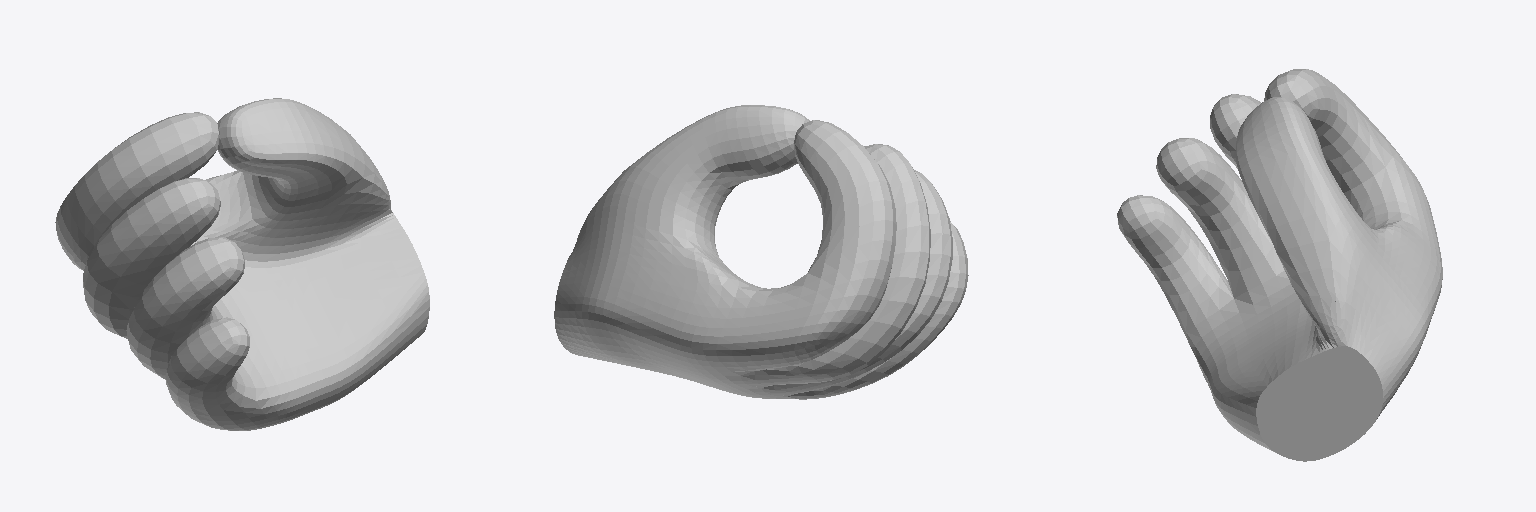
3 views of the same model, side by side, from view 1: azimuth 30°, elevation 25°; view 2: azimuth 150°, elevation 25°; view 3: azimuth 270°, elevation 25° (orthographic).
Visible parts, largest first — view 1: O_HAND; view 2: O_HAND; view 3: O_HAND.
Part boxes in pixels (x1,y1,x2,y2): O_HAND: (55, 98, 429, 430); O_HAND: (554, 105, 968, 399); O_HAND: (1117, 69, 1442, 461).
Size of the model in its own units: 145 by 129 by 126.